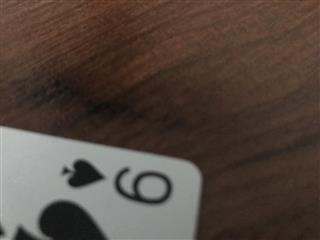NineOfSpades: (1, 124, 203, 240)
